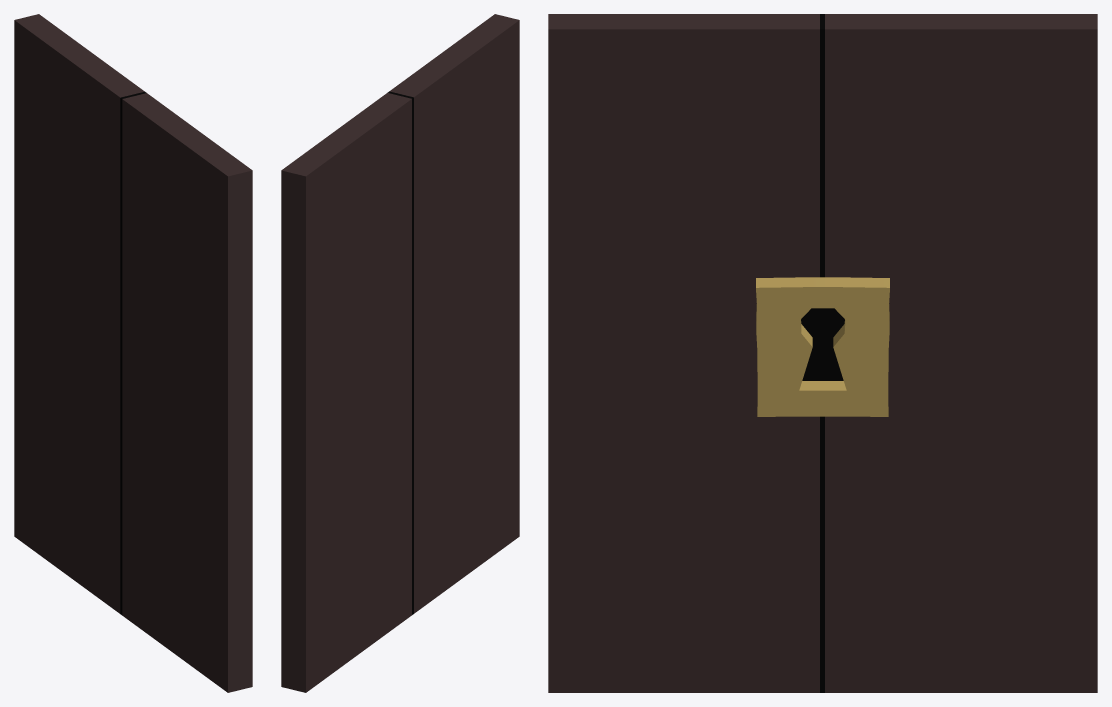
File: Door.fbx
The picture shows the model from 3 angles, left to right: view 1: azimuth 30°, elevation 25°; view 2: azimuth 150°, elevation 25°; view 3: azimuth 270°, elevation 25°; orthographic projection. The views are drawn at different scales.
Visible parts, largest first — view 1: Lock1; view 2: Lock1; view 3: Lock1.
Part boxes in pixels (<box>): Lock1: <box>14,14,252,692</box>; Lock1: <box>281,14,519,692</box>; Lock1: <box>548,14,1097,692</box>.
Bounding box in the file's own units: 16.6 × 200 × 150.
